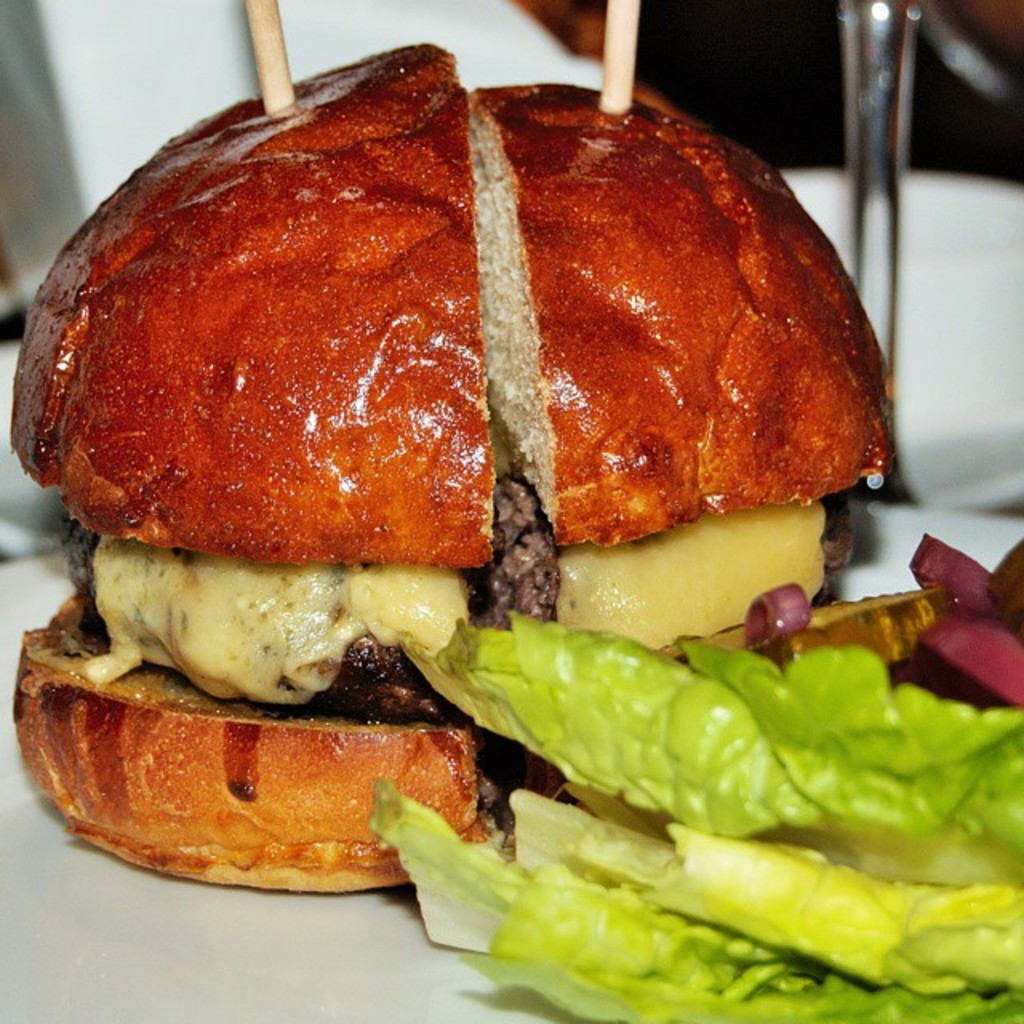Hamburger: (9, 39, 956, 881)
